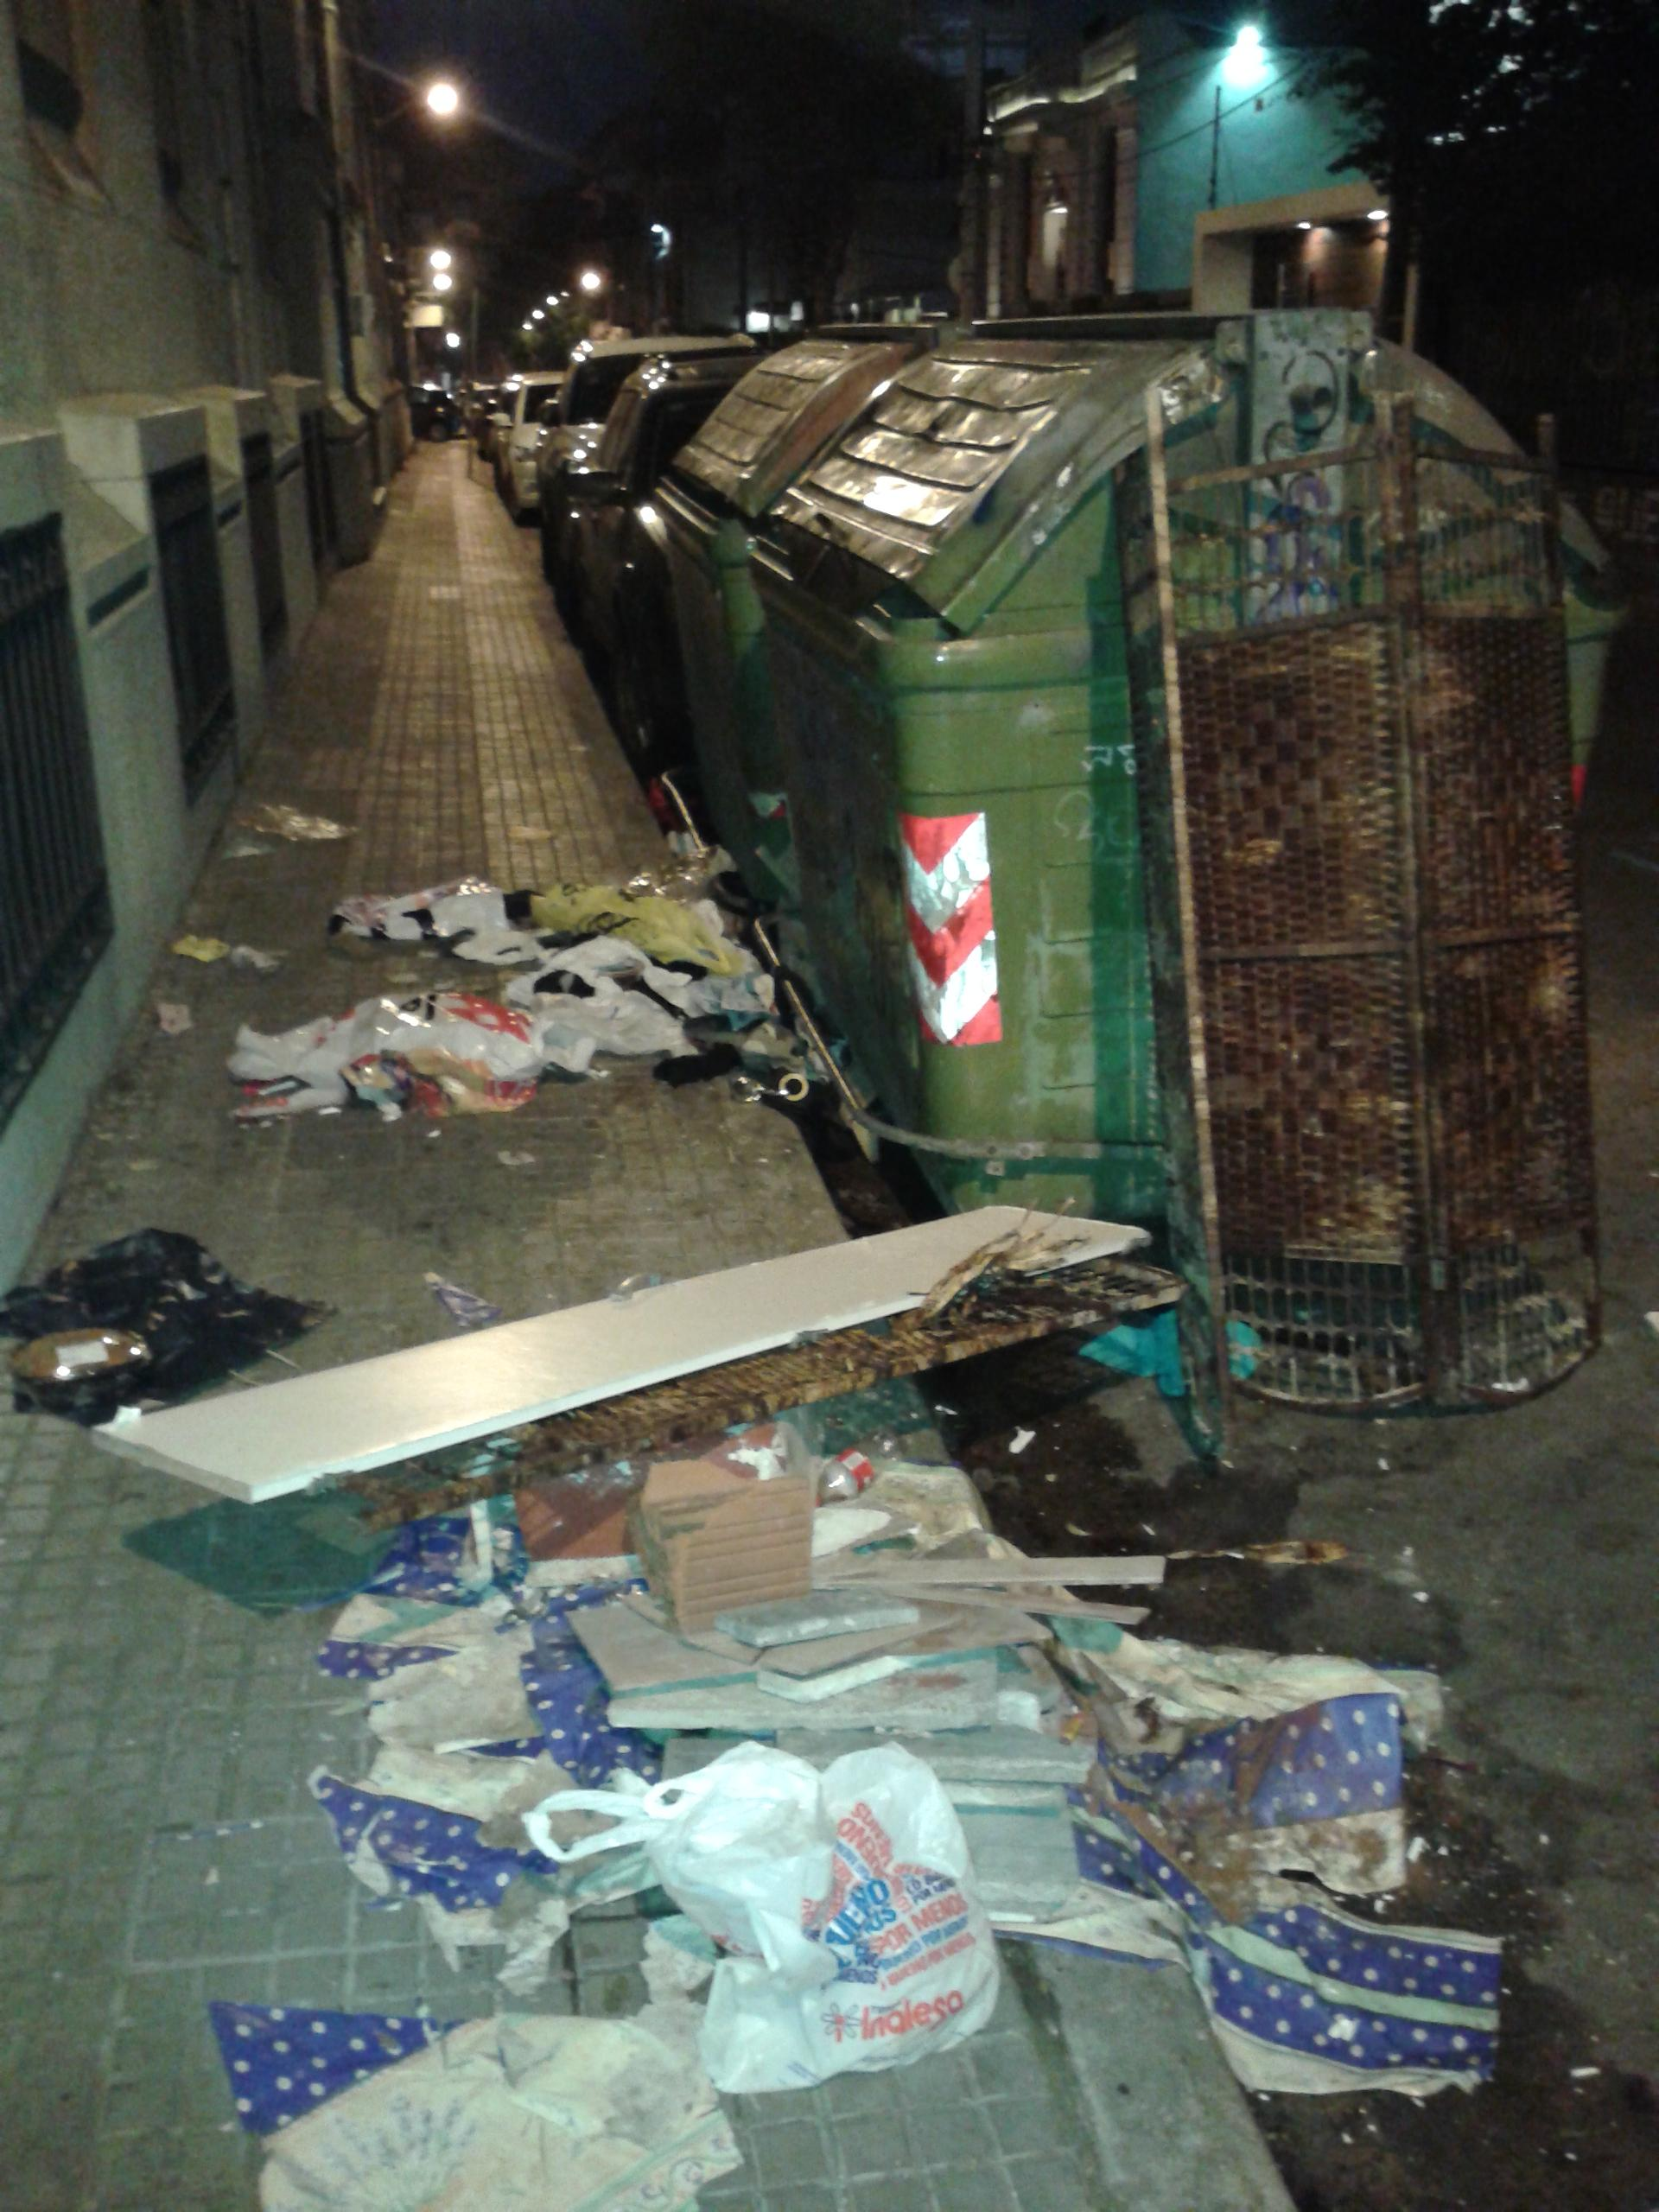Dechets: (17, 1219, 1459, 2205), (300, 1439, 1520, 2102), (1154, 402, 1635, 1420), (91, 1209, 1161, 1503), (169, 843, 767, 1155), (643, 1745, 1019, 2104), (220, 1998, 755, 2212), (7, 1228, 345, 1430), (230, 989, 615, 1103), (204, 787, 383, 871)
Trash: (664, 317, 1649, 1338)
